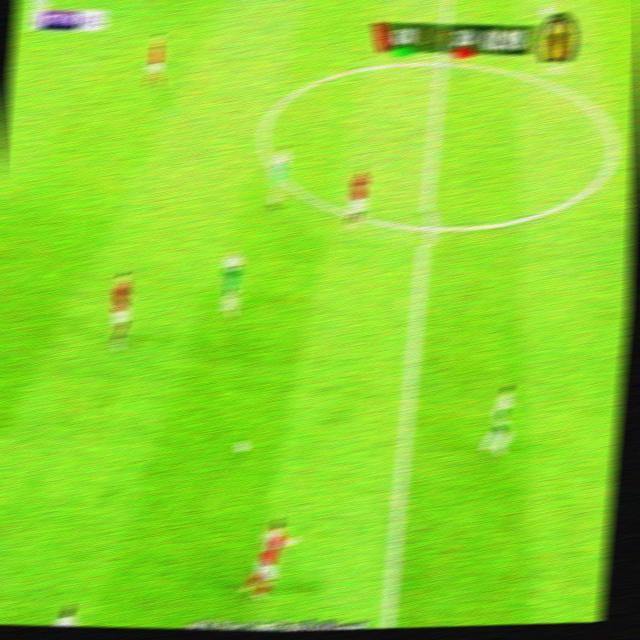halfcircle_bottom: (414, 210, 442, 246)
halfcircle_top: (429, 49, 458, 77)
